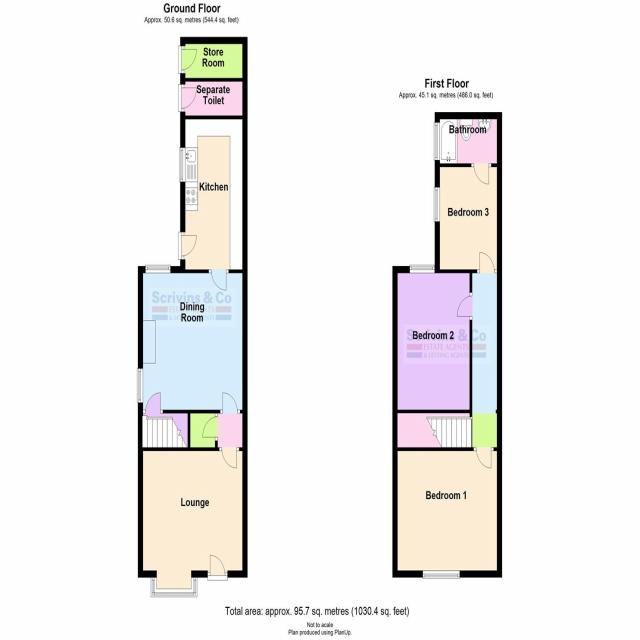DOOR: (207, 554, 228, 581), (178, 231, 197, 260), (456, 292, 472, 321), (473, 447, 494, 469), (476, 251, 497, 273), (471, 163, 492, 185), (219, 447, 240, 469), (208, 269, 229, 291), (220, 392, 240, 414)
ROOM: (137, 264, 248, 414), (138, 447, 248, 598), (392, 447, 502, 579), (177, 115, 248, 291), (392, 264, 473, 414), (433, 163, 502, 274)
WINDOW: (150, 576, 198, 598), (422, 570, 460, 579), (433, 122, 440, 161), (409, 264, 435, 274), (145, 264, 171, 274), (433, 186, 440, 223), (179, 147, 186, 183), (137, 368, 143, 404)
